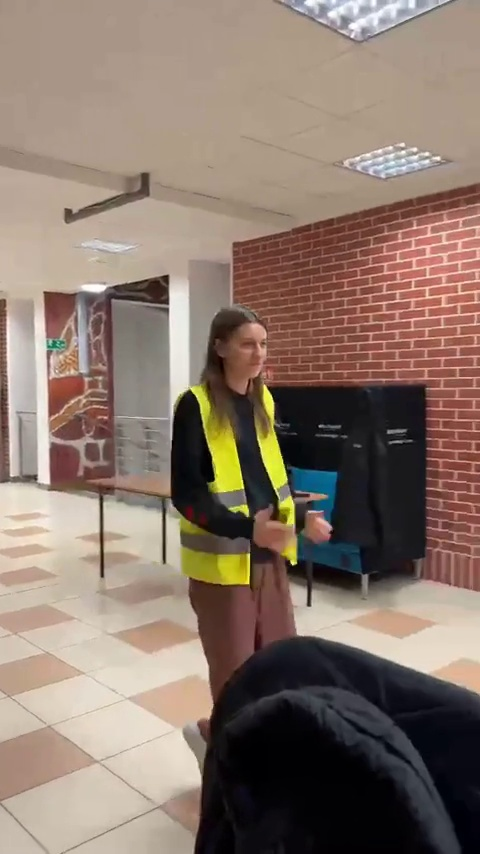vest: (169, 302, 331, 644)
